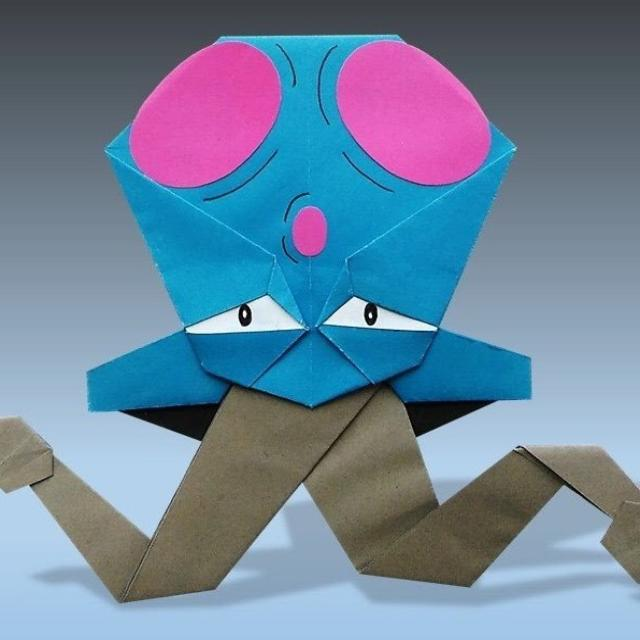Tentacool: (67, 38, 517, 550)
